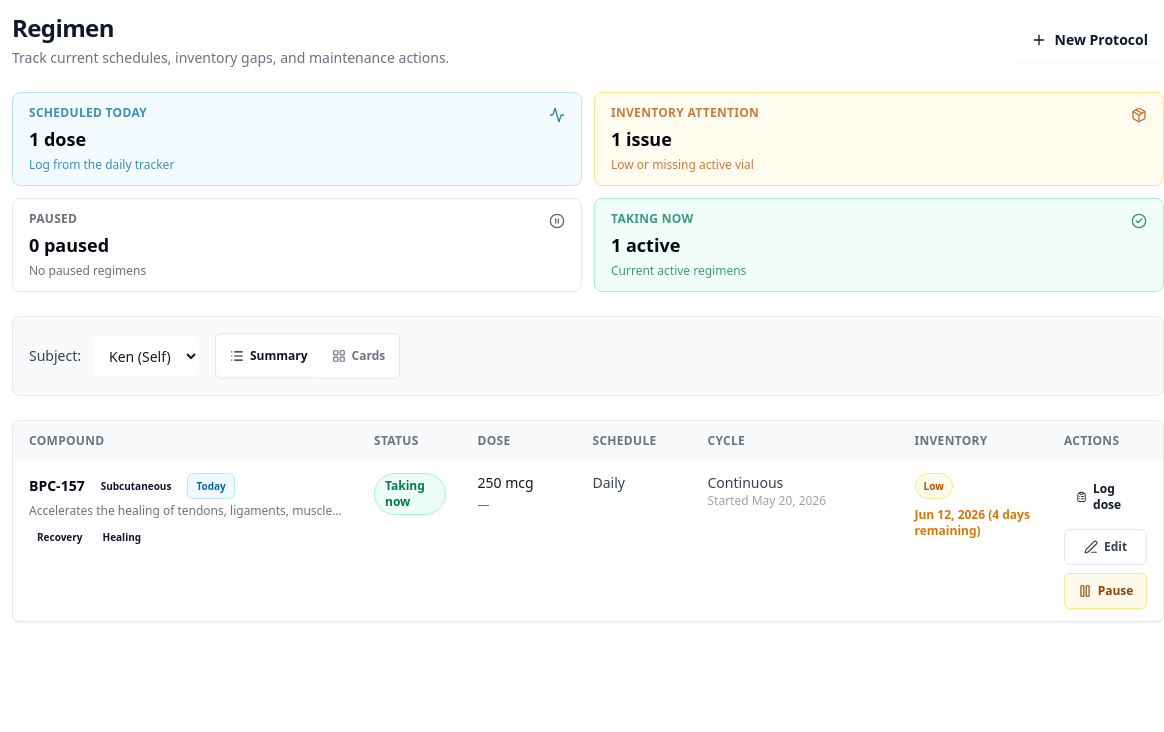
Scenario: RegimenClient summary view › updates Summary rows when the selected subject changes
The image size is (1164, 732).
expect the link "BPC-157" is shown: met, box [29,476,85,496]
expect the text "Tirzepatide" is not shown: met
Select "Alex" in the dropdown labelled "Subject:": (146, 356) [93,336,199,376]
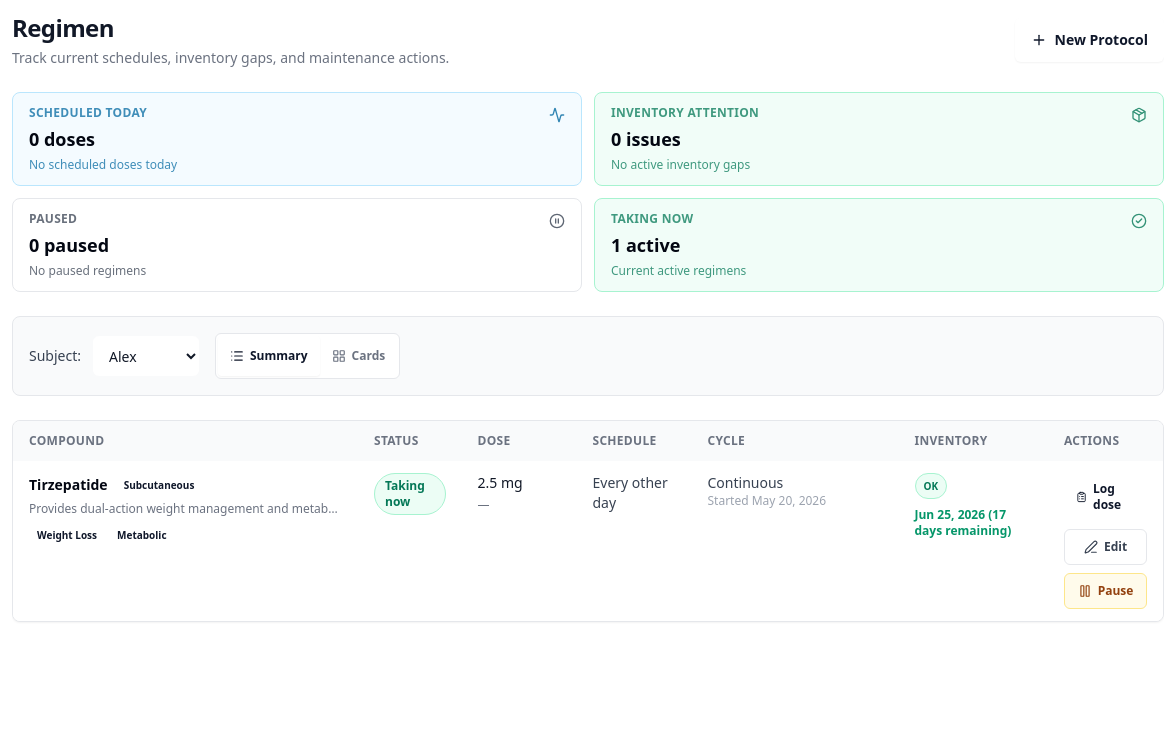
expect the link "Tirzepatide" is shown: met, box [29,475,108,495]
expect the text "2.5 mg" is shown: met, box [478,473,523,492]
expect the text "Every other day" is shown: met, box [592,473,668,512]
